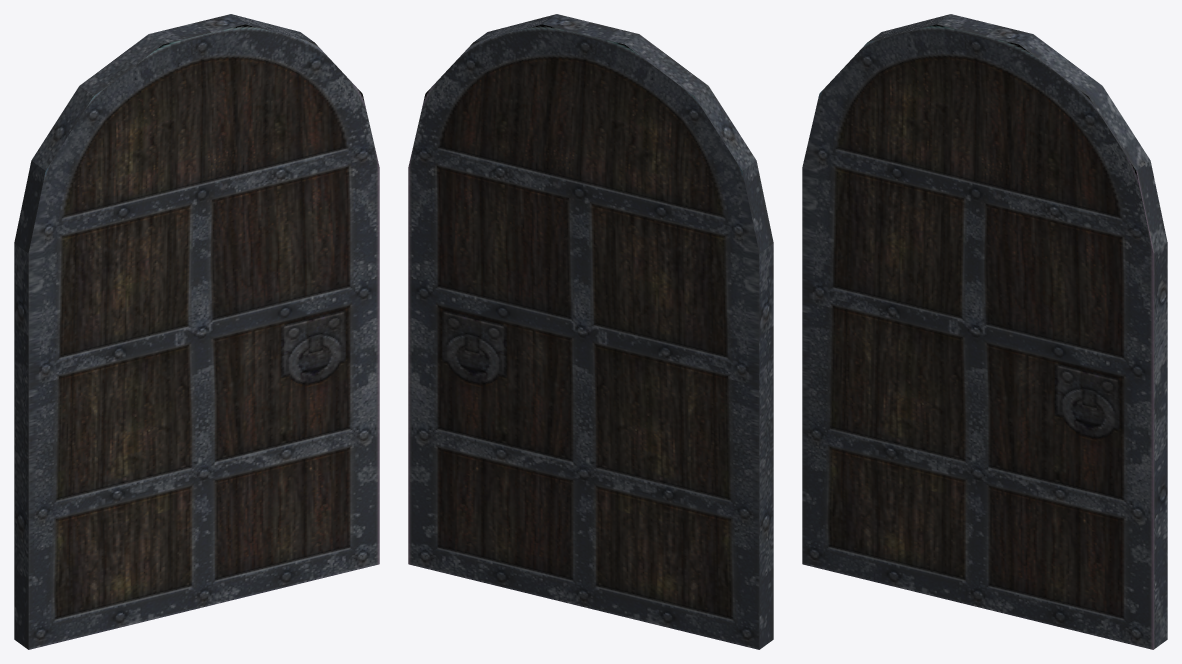
The model's file is wall_4Door.FBX.
The picture shows the model from 3 angles, left to right: view 1: azimuth 30°, elevation 25°; view 2: azimuth 150°, elevation 25°; view 3: azimuth 330°, elevation 25°; orthographic projection.
Visible parts, largest first — view 1: wall_4Door; view 2: wall_4Door; view 3: wall_4Door.
Boxes of the visible parts, x1,y1,x2,y2 form: wall_4Door: (14,14,379,649); wall_4Door: (408,14,773,649); wall_4Door: (802,14,1167,649).
Bounding box in the file's own units: 25.42 × 39.61 × 1.79.
